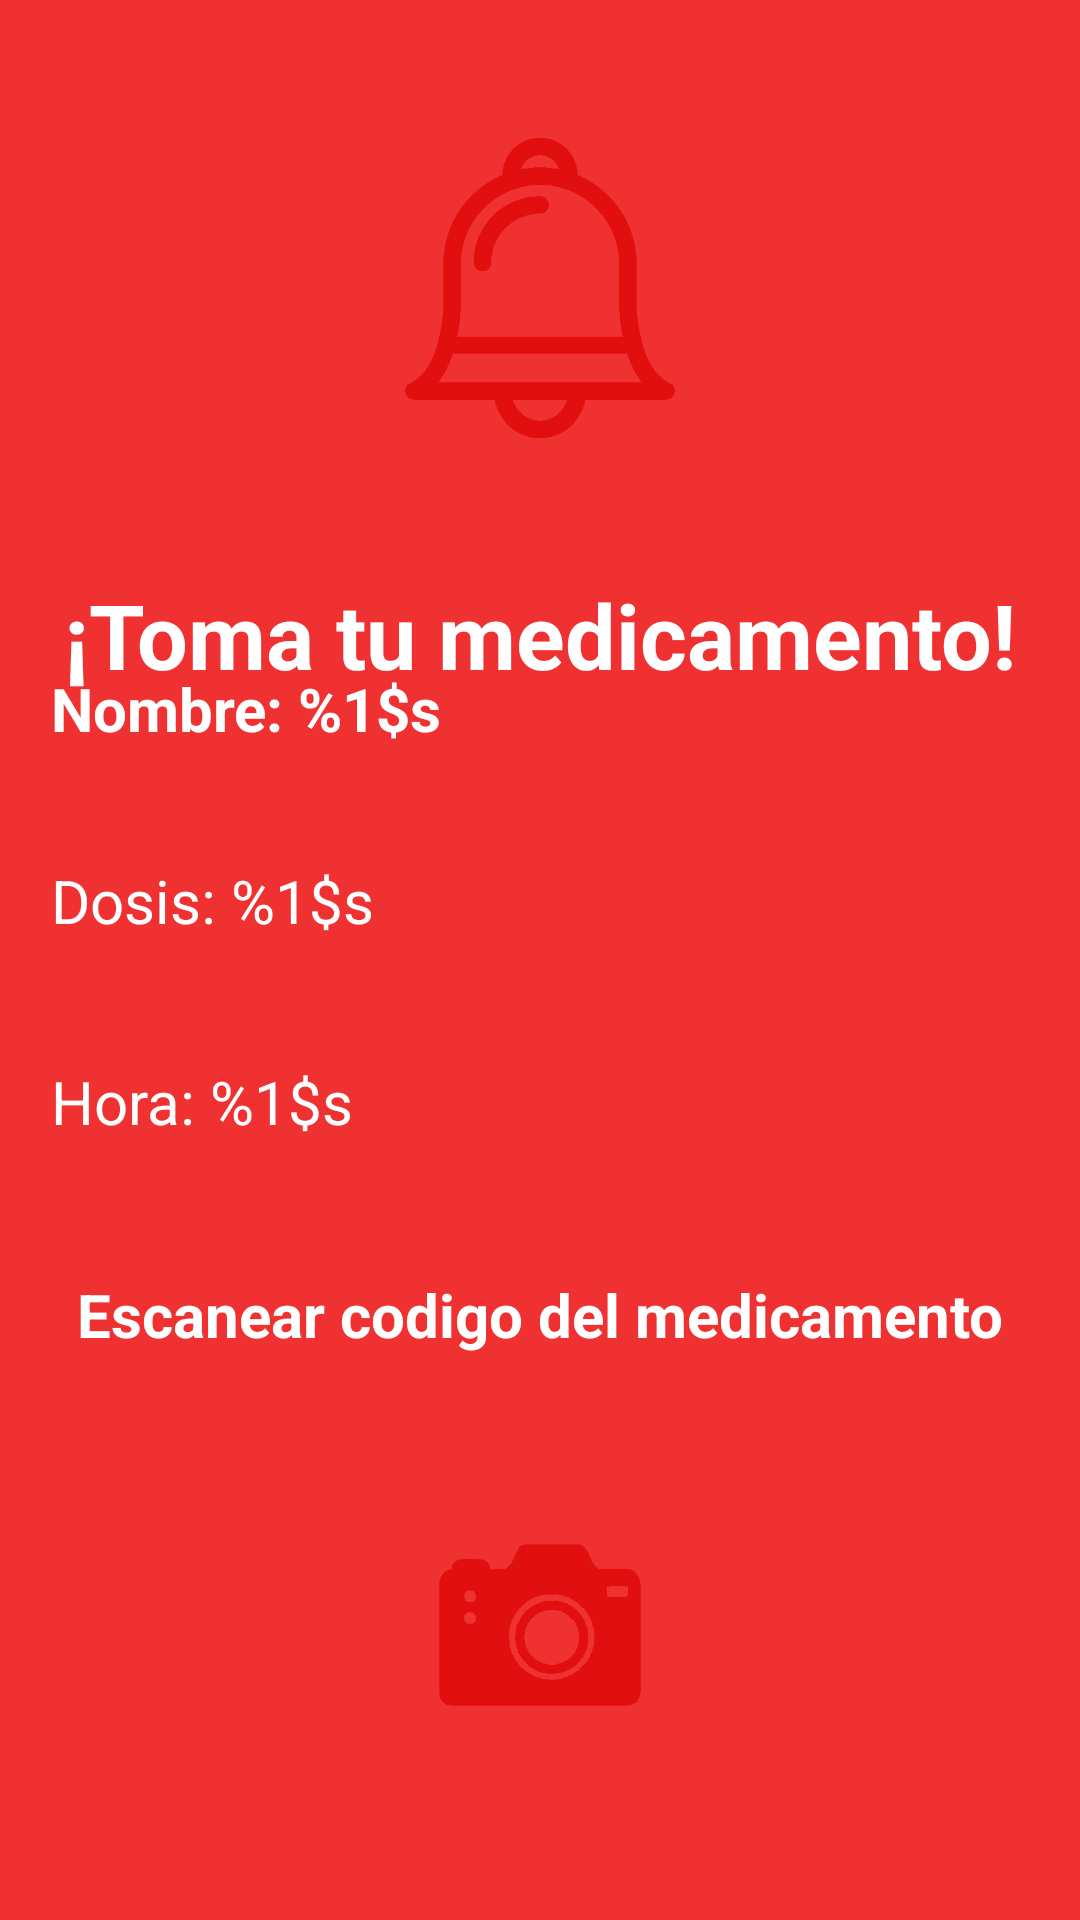

Where to tap for icons on this 1080w x 1920h app screen, as (x,y):
bell: (540,288)
camera: (540,1625)
